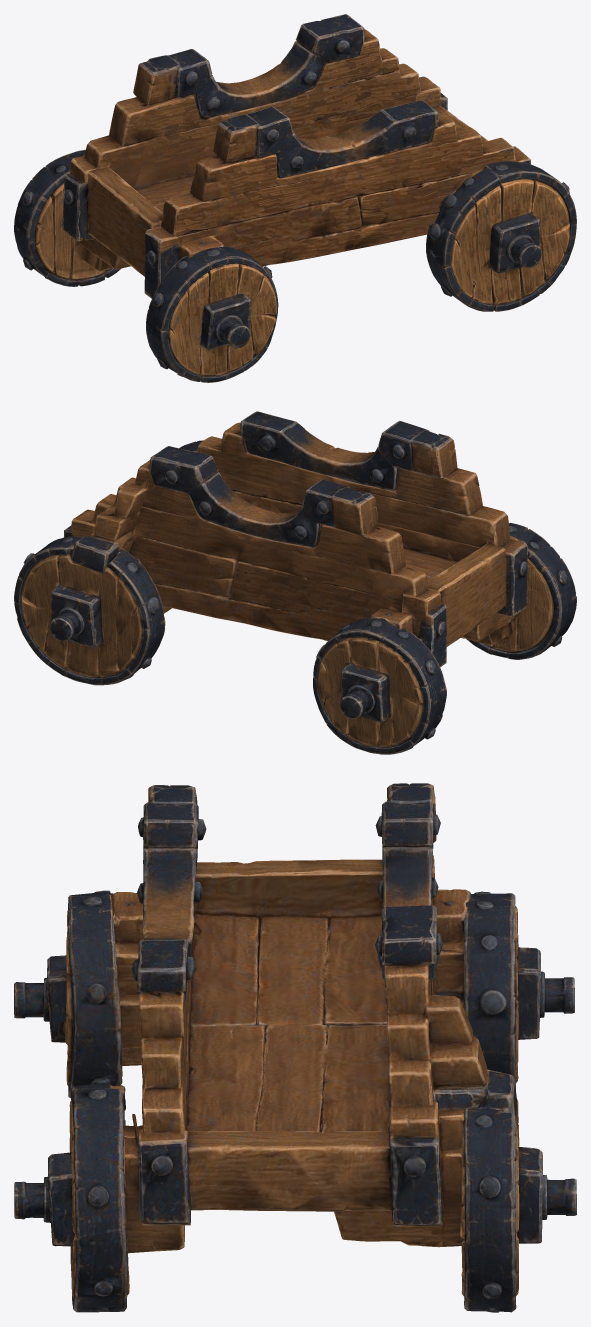
The model's file is cannon_carriage.glb.
3 renders of one model, top to bottom at view 1: azimuth 30°, elevation 25°; view 2: azimuth 150°, elevation 25°; view 3: azimuth 270°, elevation 25°, orthographic. The views are drawn at different scales.
Size of the model in its own units: 1.9 by 0.9635 by 1.47.
Materials: 1 (1 with a texture image).
